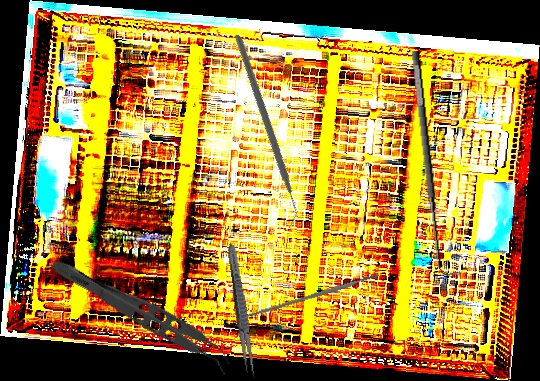Chopper: (162, 33, 365, 230)
Dressing Forceps: (224, 241, 259, 381)
Hook Surgical: (407, 48, 462, 280)
Scalpel Handle: (246, 272, 380, 320)
Tissue Forceps: (42, 254, 239, 378)
